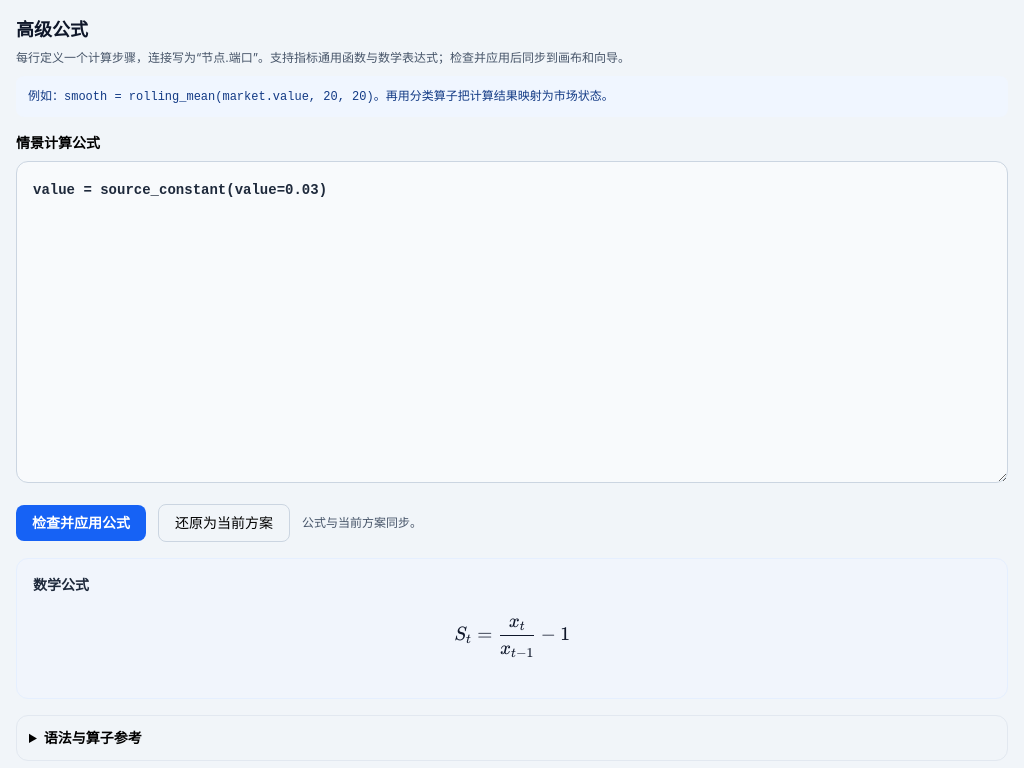
Test: RegimeFormulaEditor › invalid draft remains visible and cannot replace the graph; valid apply preserves positions
This screenshot has width=1024, height=768.
Expected: the element with class "mfrac" is shown, [500,623,534,645]
Replace the text in the text box showing "value = source_constant(value=0.03)" with "bad()": (512, 322) [16,161,1008,483]
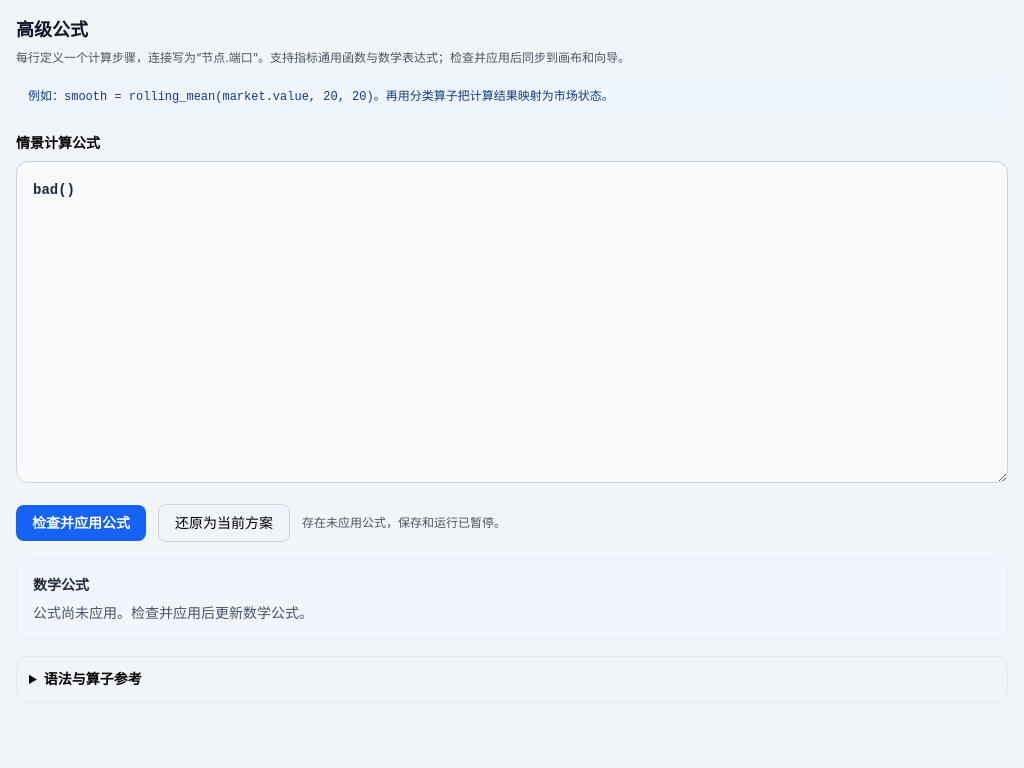
Now the field labelled "当前输出的数学公式" is gone
Click the button "检查并应用公式": (81, 523) [16,505,146,541]
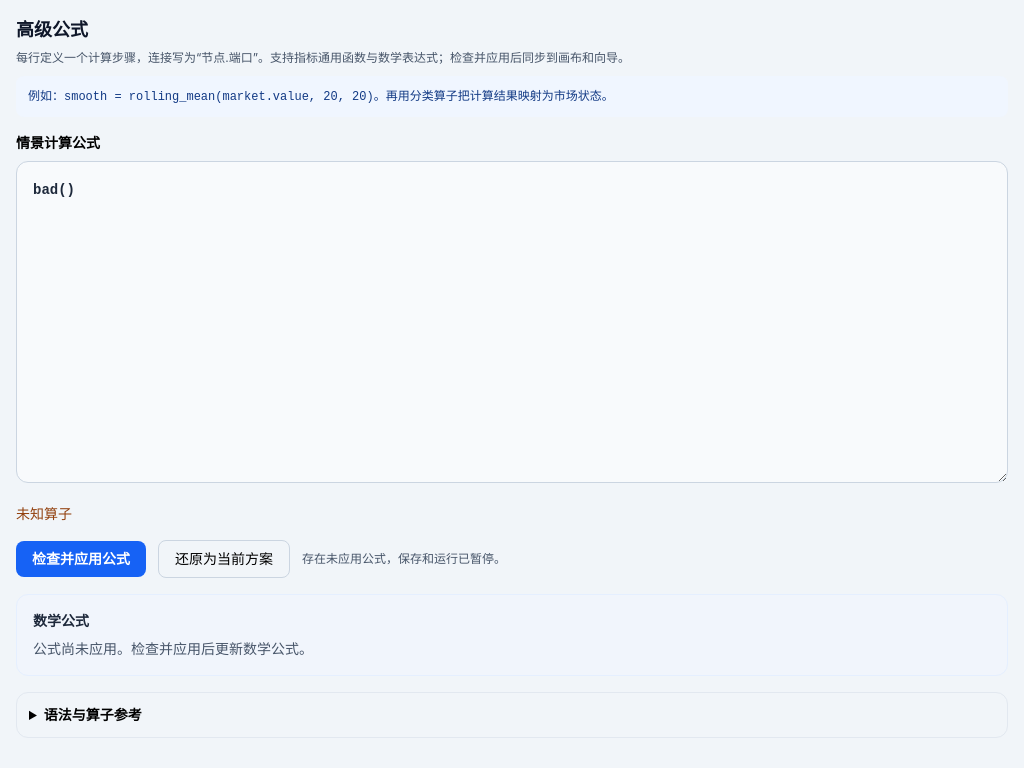
Now the list item "未知算子" is shown, box [16,505,72,522]
Replace the text in the text box showing "value = source_constant(value=0.03)" with "changed": (512, 322) [16,161,1008,483]
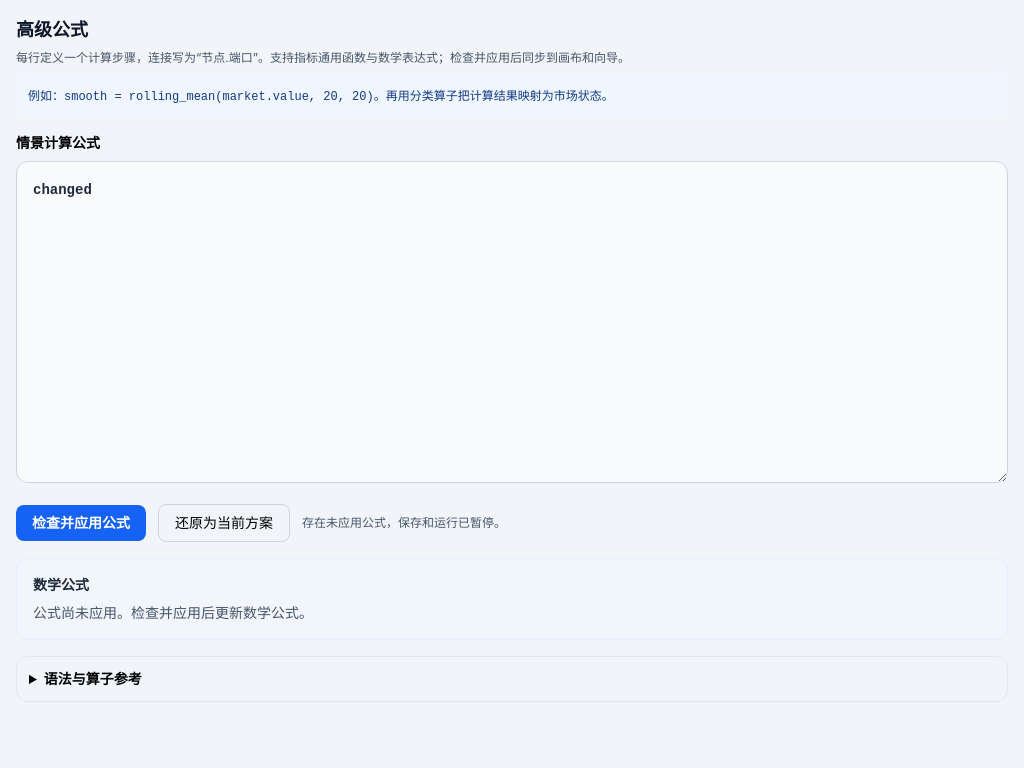
Click the button "检查并应用公式": (81, 523) [16,505,146,541]
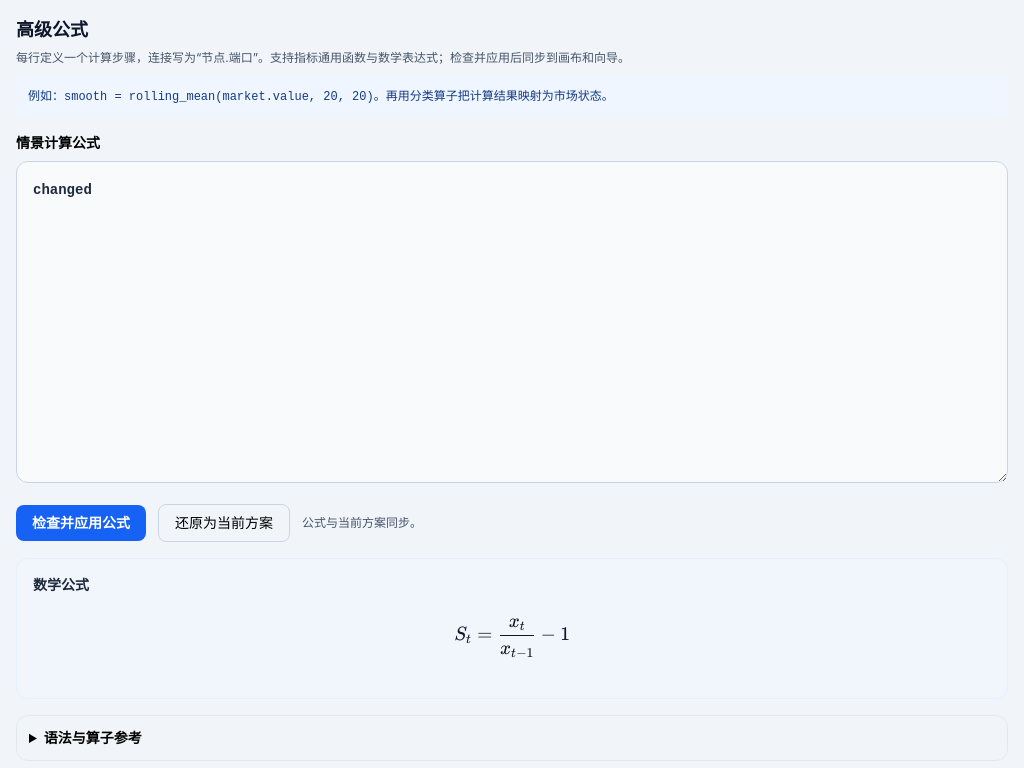
Now the element with class "katex" is shown, box [454,612,631,662]
